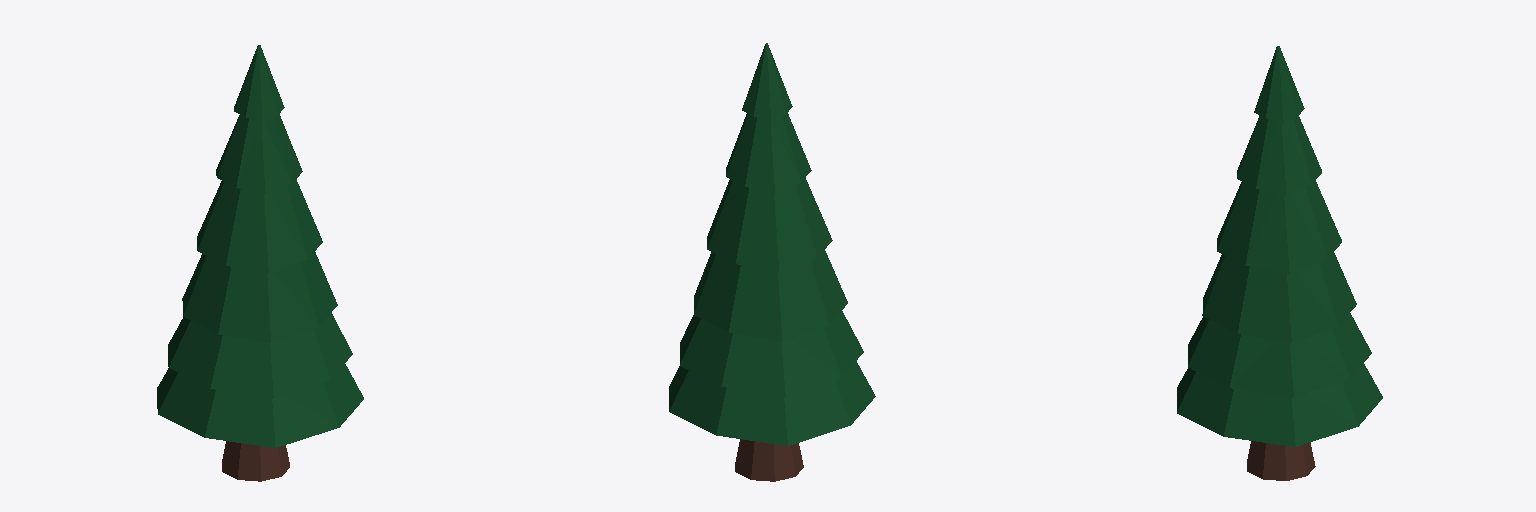
File: m_tree2.obj
3 renders of one model, left to right at view 1: azimuth 30°, elevation 25°; view 2: azimuth 150°, elevation 25°; view 3: azimuth 270°, elevation 25°, orthographic.
Visible parts, largest first — view 1: Cylinder; view 2: Cylinder; view 3: Cylinder.
Boxes of the visible parts, <box> form: Cylinder: <box>157,45,363,481</box>; Cylinder: <box>669,43,875,481</box>; Cylinder: <box>1177,46,1382,480</box>.
Bounding box in the file's own units: 2.31 × 5.12 × 2.28.